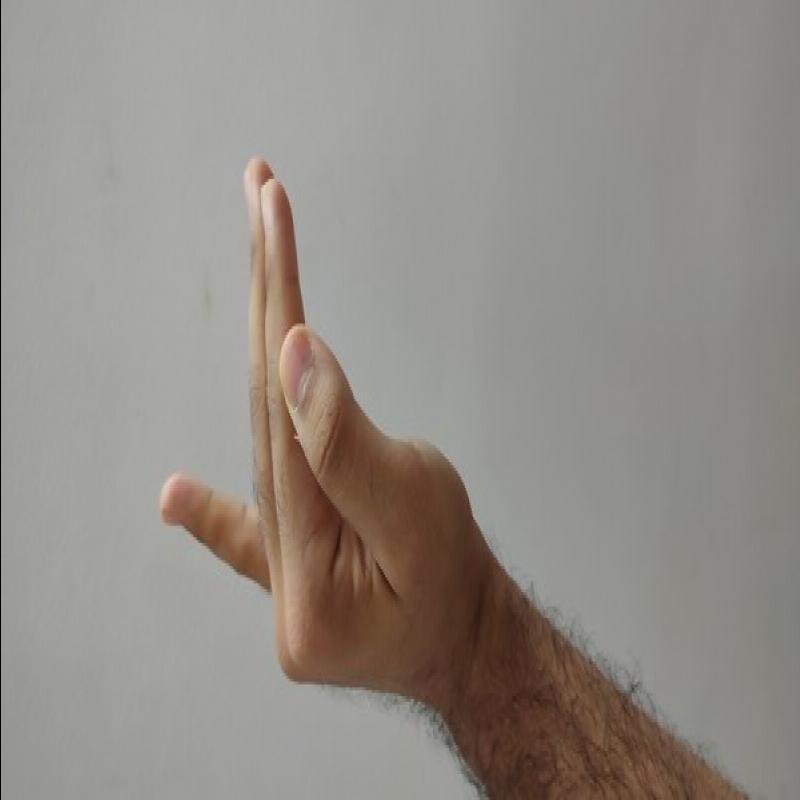Kartharee Mukham: (134, 140, 509, 708)
